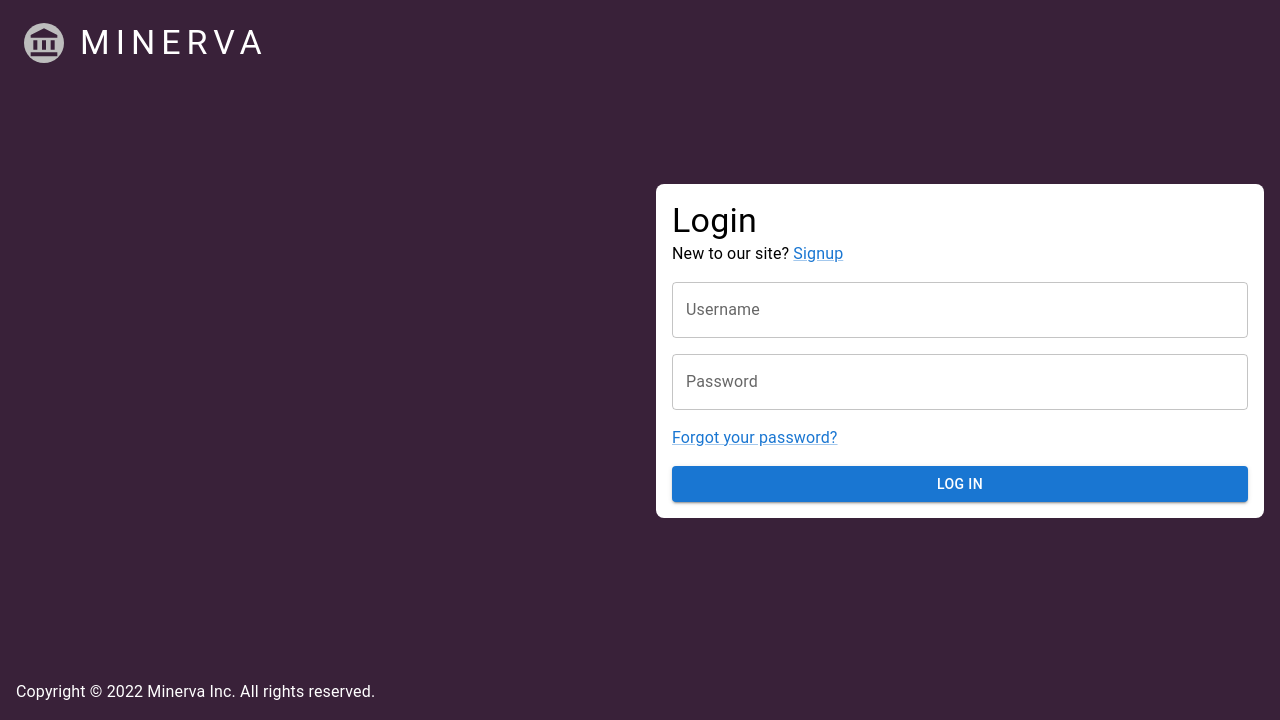
Test case: Login › shows an error if username is empty when logging in
What coordinates should you click on to do the following:
click the button "Log in"
I would click on:
 (960, 484)
Its box is x1=672 y1=466 x2=1248 y2=502.
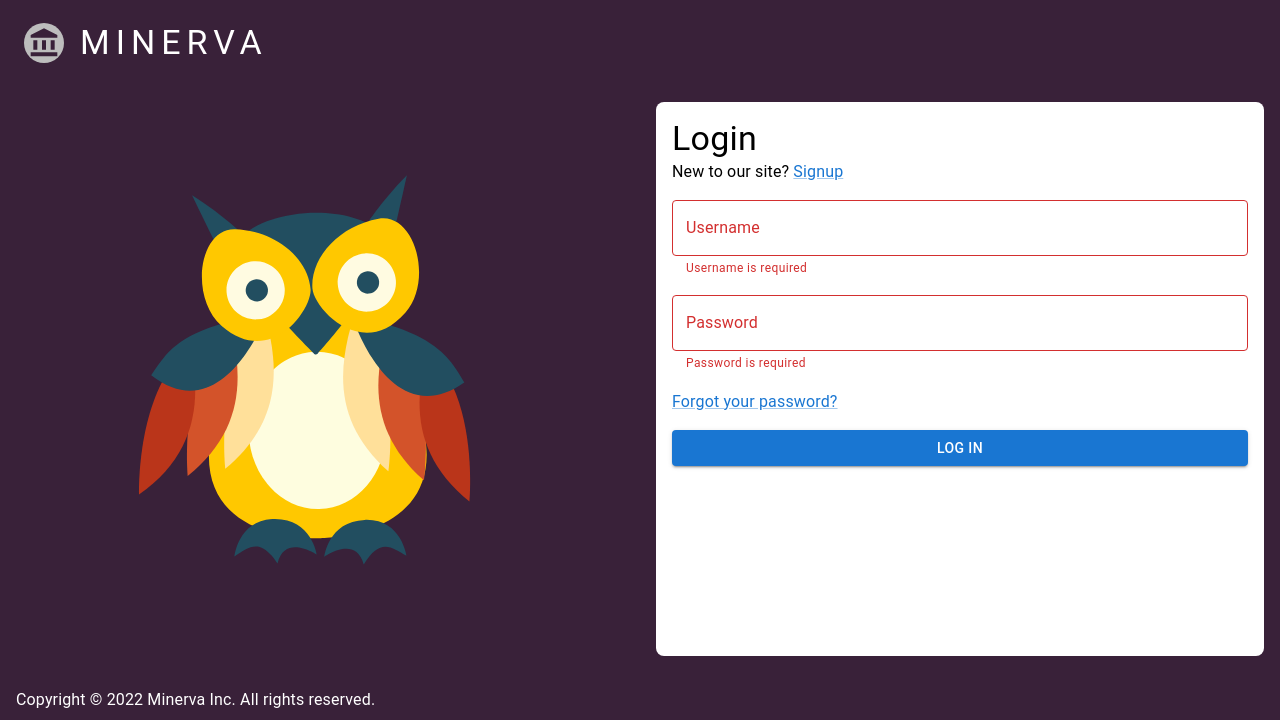
Expected: the text "Username is required" is shown, x1=686 y1=261 x2=807 y2=275
